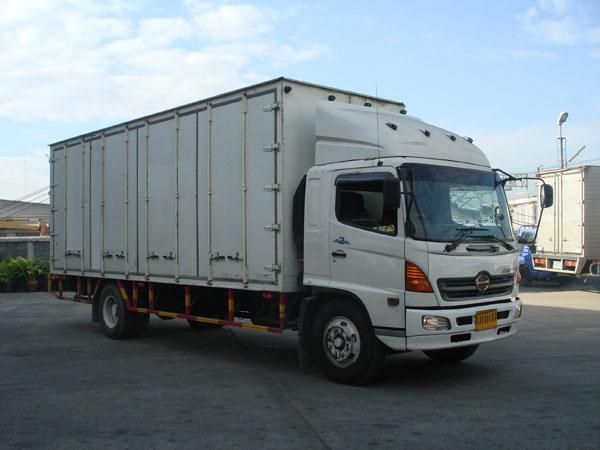truck: (45, 75, 524, 385)
